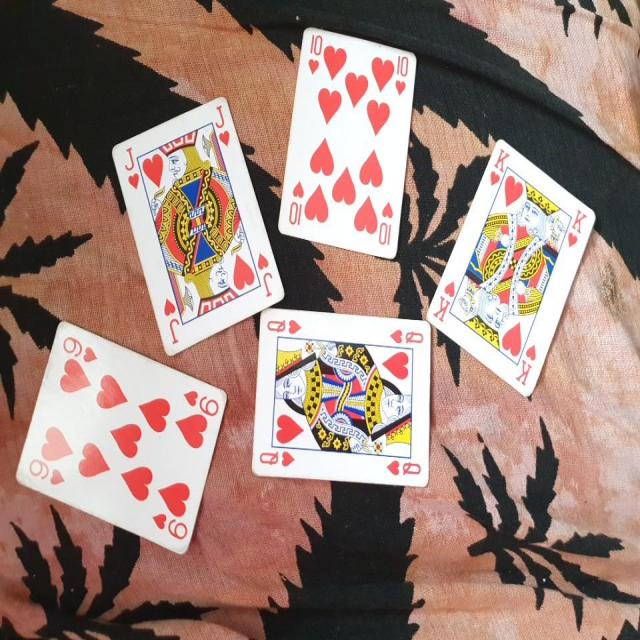10 Hearts: (271, 21, 418, 274)
9 Hearts: (14, 317, 235, 562)
J Hearts: (108, 87, 284, 360)
K Hearts: (427, 132, 600, 412)
Q Hearts: (249, 301, 440, 506)
